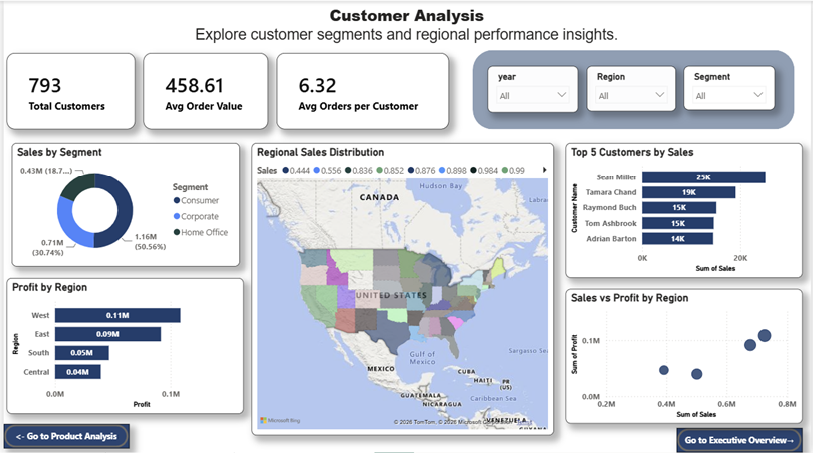

This screenshot's page, from the dashboard's own definition file:
{"tool":"powerbi","page":{"name":"Customer Analysis ","canvas":[1280,720],"ordinal":2},"visuals":[{"type":"shape","box":[743.9,77.2,510.5,126.3],"z":0},{"type":"textbox","title":"guhgh","box":[0,0,1278.9,77.2],"z":1000},{"type":"slicer","fields":{"Values":["Orders.Region"]},"box":[925.4,103.5,142.1,71.9],"z":2000},{"type":"slicer","fields":{"Values":["Orders.Segment"]},"box":[1080.7,103.5,143.9,70.2],"z":3000},{"type":"slicer","fields":{"Values":["Datetable.year"]},"box":[768.4,103.5,143.9,73.7],"z":4000},{"type":"actionButton","title":"Go to Product Analysis →","box":[1069.4,680.6,198.4,38.7],"z":5000},{"type":"cardVisual","fields":{"Data":["Measure table.Total Customers"]},"box":[5.3,82.5,203.5,121.1],"z":6000},{"type":"cardVisual","fields":{"Data":["Measure table.Avg_order_value"]},"box":[221.1,82.5,198.2,121.1],"z":7000},{"type":"cardVisual","fields":{"Data":["Measure table.Avg Orders per Customer"]},"box":[433.3,82.5,273.7,121.1],"z":8000},{"type":"actionButton","title":"Go to Product Analysis →","box":[0,674.2,198.4,38.7],"z":9000},{"type":"donutChart","fields":{"Y":["Sum(Orders.Sales)"],"Category":["Orders.Segment"]},"box":[12.3,226.3,361.4,198.2],"z":10000},{"type":"clusteredBarChart","fields":{"Category":["Orders.Region"],"Y":["Sum(Orders.Profit)"]},"box":[5.3,442.1,375.4,215.8],"z":11000},{"type":"filledMap","title":"Regional Sales Distribution","fields":{"Series":["Orders.Sales"],"Category":["Orders.State"]},"box":[393,226.3,480.7,466.7],"z":12000},{"type":"barChart","title":"Top 5 Customers by Sales","fields":{"Category":["Orders.Customer Name"],"Y":["Sum(Orders.Sales)"]},"box":[893,226.3,375.4,215.8],"z":13000},{"type":"scatterChart","title":"Sales vs Profit by Region","fields":{"X":["Sum(Orders.Sales)"],"Y":["Sum(Orders.Profit)"],"Category":["Orders.Region"],"Size":["Measure table.Total orders"]},"box":[893,459.6,375.4,214],"z":14000}]}

Visuals, with their boxes in screenshot pixels (x1, y1, x2, y2), scaled from the page's 1280x720 canvas onto the 813x453 screenshot:
shape: <box>472,49,797,128</box>
"guhgh" textbox: <box>0,0,812,49</box>
slicer - Orders.Region: <box>588,65,678,110</box>
slicer - Orders.Segment: <box>686,65,778,109</box>
slicer - Datetable.year: <box>488,65,579,111</box>
"Go to Product Analysis →" actionButton: <box>679,428,805,452</box>
cardVisual - Measure table.Total Customers: <box>3,52,133,128</box>
cardVisual - Measure table.Avg_order_value: <box>140,52,266,128</box>
cardVisual - Measure table.Avg Orders per Customer: <box>275,52,449,128</box>
"Go to Product Analysis →" actionButton: <box>0,424,126,449</box>
donutChart - Sum(Orders.Sales) x Orders.Segment: <box>8,142,237,267</box>
clusteredBarChart - Orders.Region x Sum(Orders.Profit): <box>3,278,242,414</box>
"Regional Sales Distribution" filledMap: <box>250,142,555,436</box>
"Top 5 Customers by Sales" barChart: <box>567,142,806,278</box>
"Sales vs Profit by Region" scatterChart: <box>567,289,806,424</box>
